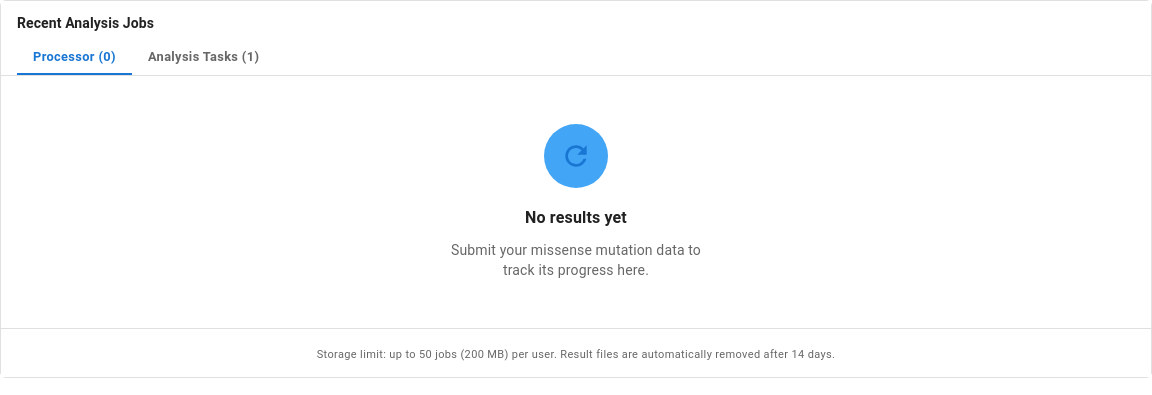
Scenario: ESM-1v no JobsDrawer e em Recent Analysis Jobs › Recent Analysis Jobs lista tarefas ESM-1v com botoes Open e XLSX
Later steps or results of the test are not shown.
Click the tab "Analysis Tasks (1)".
click(204, 57)  # box x1=132 y1=39 x2=275 y2=75
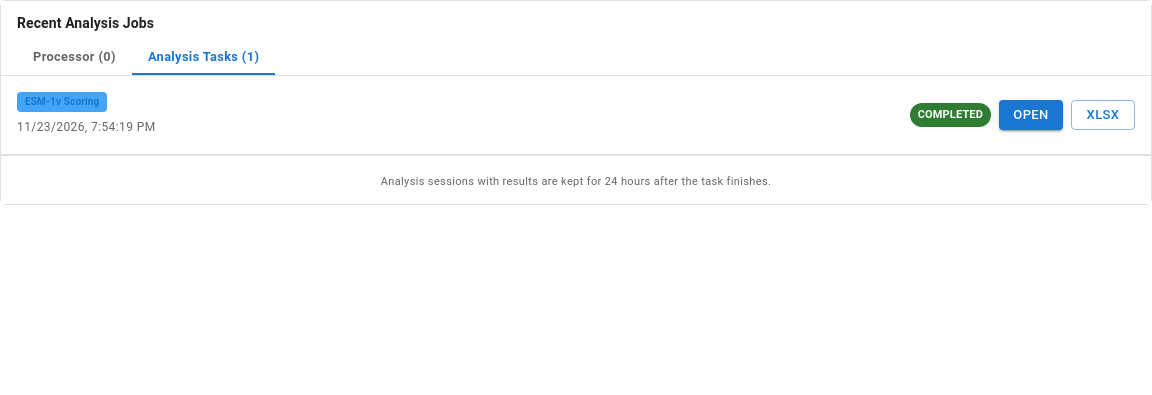
expect the text "ESM-1v Scoring" is shown: met, box x1=25 y1=96 x2=100 y2=107
